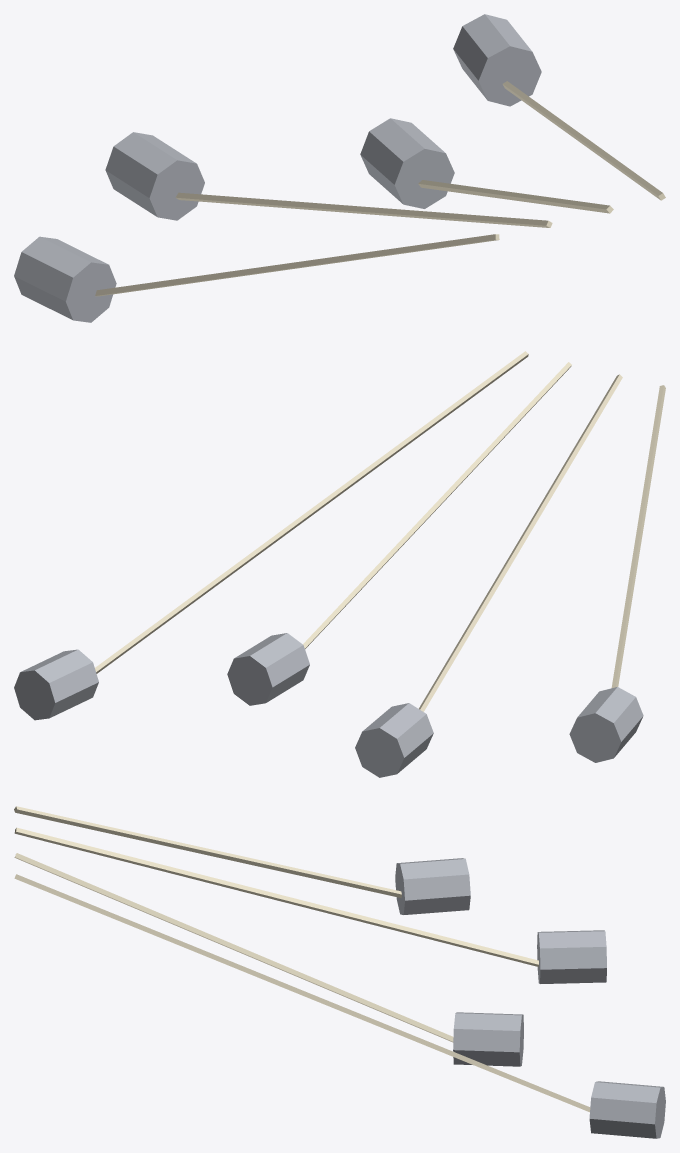
The model's file is wedding_cans.glb.
3 renders of one model, top to bottom at view 1: azimuth 30°, elevation 25°; view 2: azimuth 150°, elevation 25°; view 3: azimuth 270°, elevation 25°, orthographic. The views are drawn at different scales.
Parts seen in each view (by area): view 1: cans_wedding_tin, string_wedding_string; view 2: cans_wedding_tin, string_wedding_string; view 3: cans_wedding_tin, string_wedding_string.
Part boxes in pixels (x1=…): cans_wedding_tin: x1=14, y1=14, x2=541, y2=322; string_wedding_string: x1=95, y1=81, x2=665, y2=296; cans_wedding_tin: x1=14, y1=633, x2=643, y2=777; string_wedding_string: x1=95, y1=351, x2=665, y2=711; cans_wedding_tin: x1=395, y1=858, x2=665, y2=1138; string_wedding_string: x1=14, y1=806, x2=590, y2=1112.
Size of the model in its own units: 1.07 by 0.3557 by 1.17.
